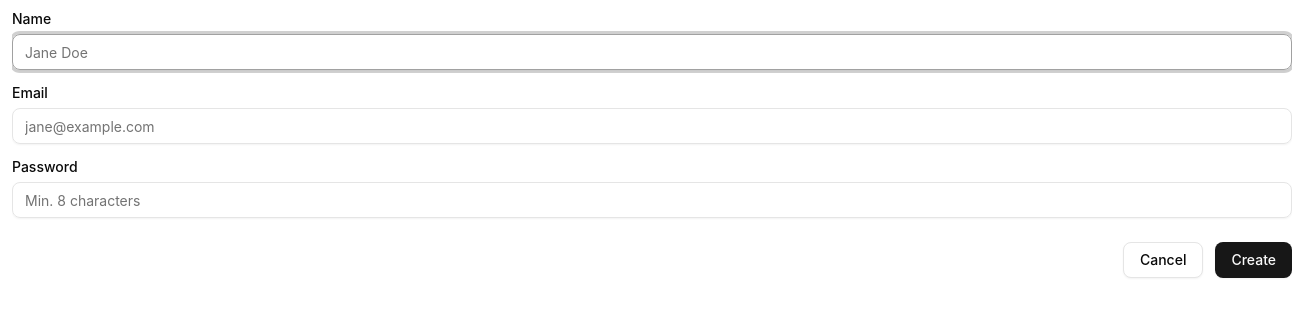
Test case: UserForm › validation › shows an error and does not POST when password is fewer than 8 characters
Type "New User" into the field labelled "Name". click: (652, 52)
box: top-left (12, 34), bottom-right (1292, 70)
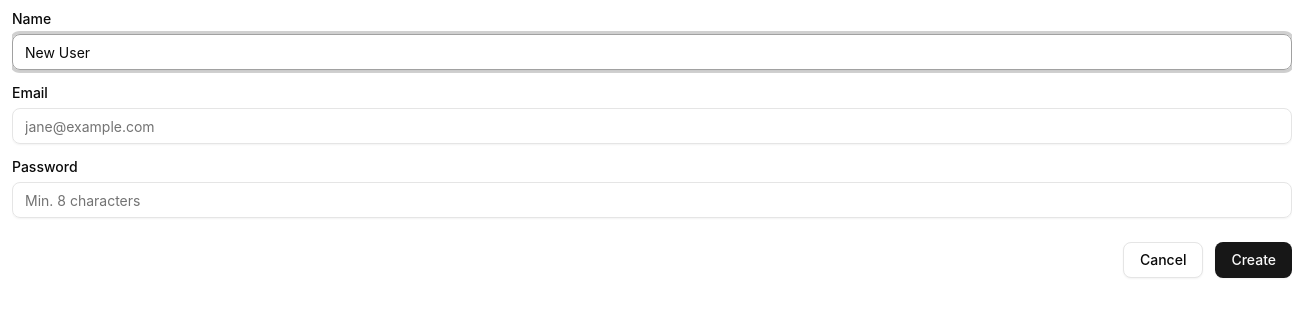
Type "new@example.com" into the field labelled "Email". click: (652, 126)
box: top-left (12, 108), bottom-right (1292, 144)
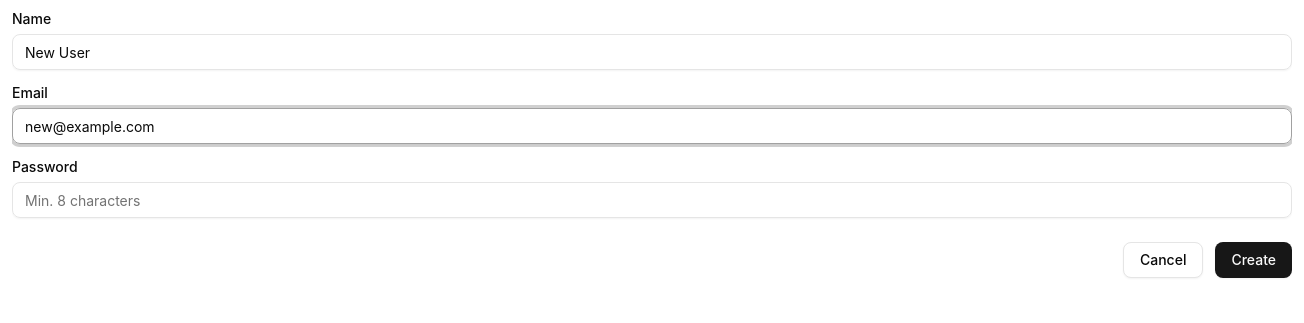
Type "short" into the password field labelled "Password". click: (652, 200)
box: top-left (12, 182), bottom-right (1292, 218)
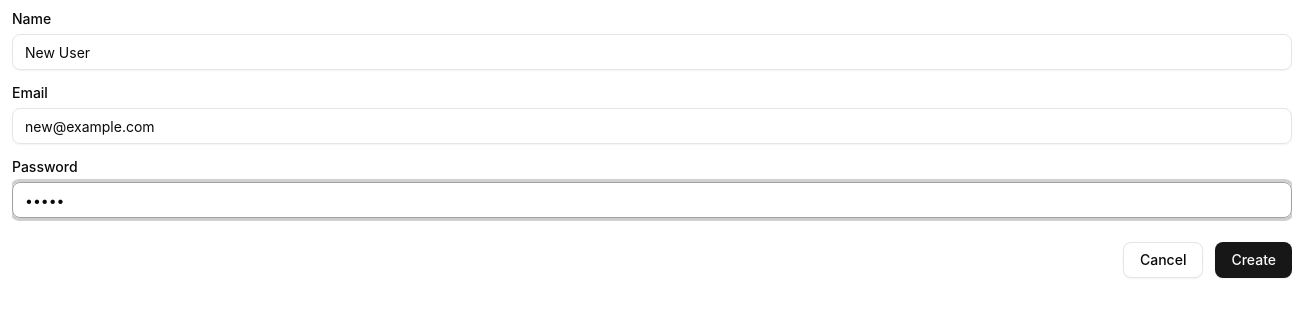
Click the button "Create". click: (1254, 260)
box: top-left (1215, 242), bottom-right (1292, 278)
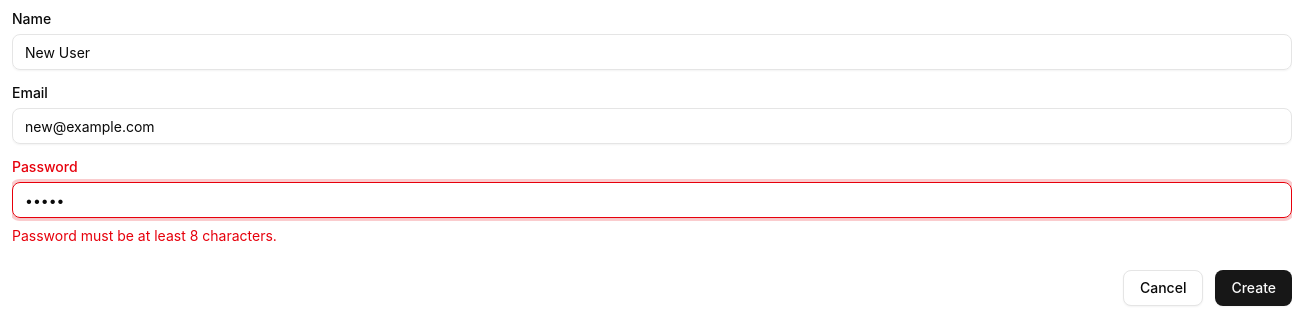
Now the text "Password must be at least 8 characters." is shown, box top-left (12, 227), bottom-right (277, 244)
